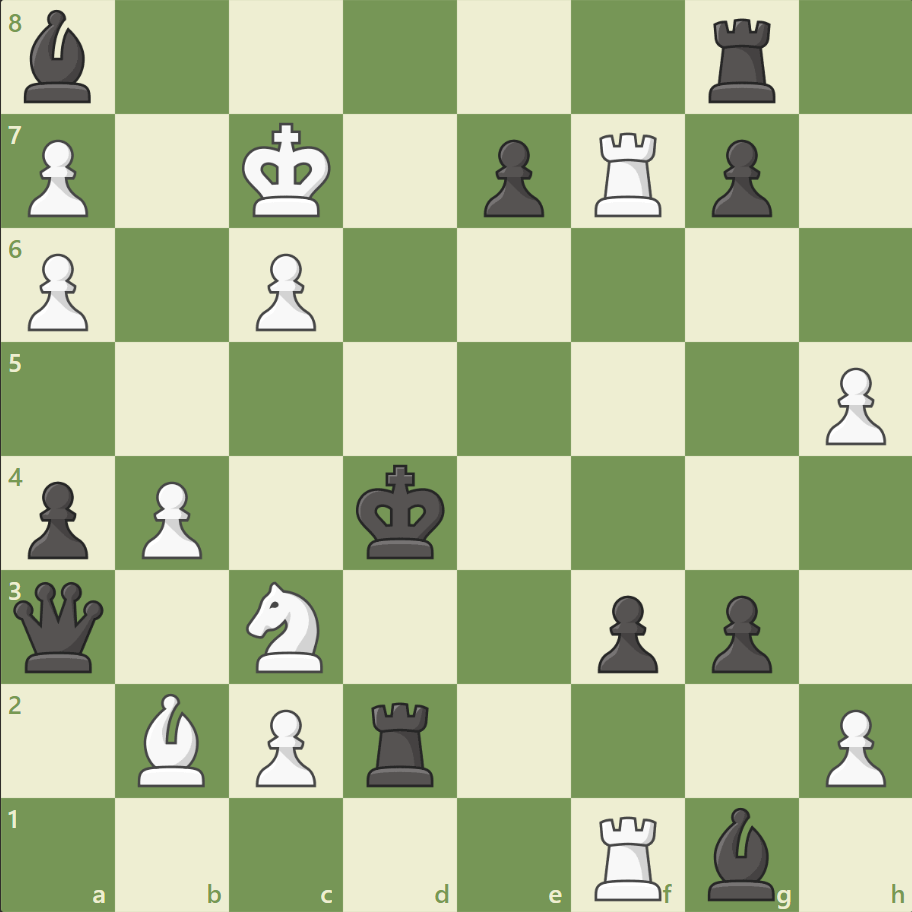B: (131, 687, 215, 790)
K: (238, 117, 338, 225)
N: (238, 575, 335, 677)
P: (20, 132, 95, 223), (20, 246, 95, 337), (247, 246, 322, 337), (133, 473, 208, 564), (247, 700, 322, 791), (815, 359, 889, 450), (815, 700, 889, 791)
R: (587, 806, 670, 904), (587, 125, 670, 222)
b: (17, 6, 101, 109), (698, 801, 782, 904)
k: (351, 458, 451, 566)
p: (474, 132, 549, 223), (701, 132, 776, 223), (20, 473, 95, 564), (701, 586, 776, 677), (588, 586, 662, 677)
q: (10, 576, 109, 676)
r: (700, 12, 783, 109), (360, 693, 442, 790)
